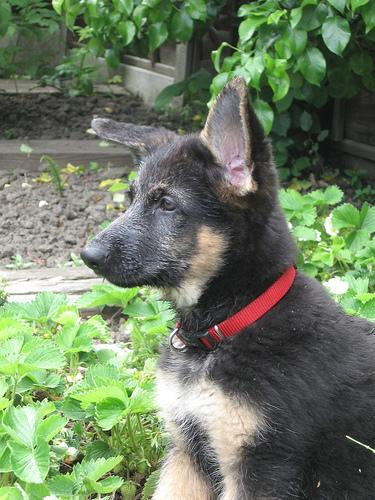German_shepherd: (73, 73, 372, 497)
